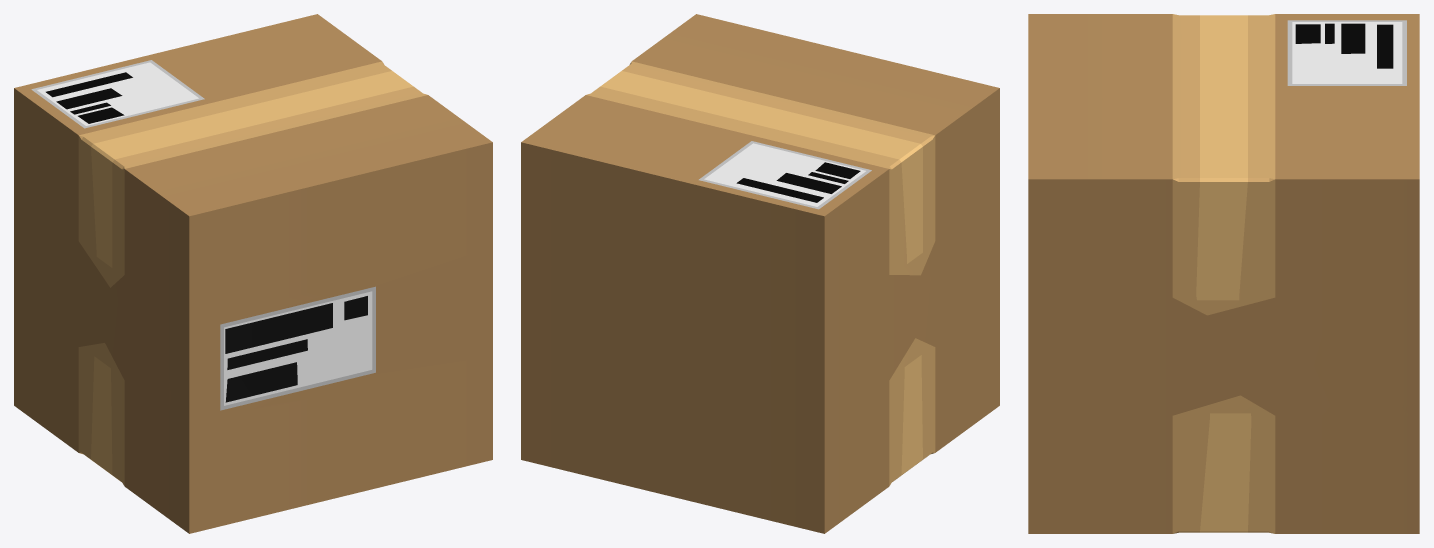
Rendered from Light Packing Box #3.fbx.
The picture shows the model from 3 angles, left to right: view 1: azimuth 30°, elevation 25°; view 2: azimuth 150°, elevation 25°; view 3: azimuth 270°, elevation 25°; orthographic projection. The views are drawn at different scales.
Parts seen in each view (by area): view 1: Small Light Packing Box #1; view 2: Small Light Packing Box #1; view 3: Small Light Packing Box #1.
Boxes of the visible parts, <box> form: Small Light Packing Box #1: <box>14,14,492,533</box>; Small Light Packing Box #1: <box>521,14,999,533</box>; Small Light Packing Box #1: <box>1028,14,1419,533</box>.
Bounding box in the file's own units: 236 × 236 × 236.
1 material, 1 textured.
